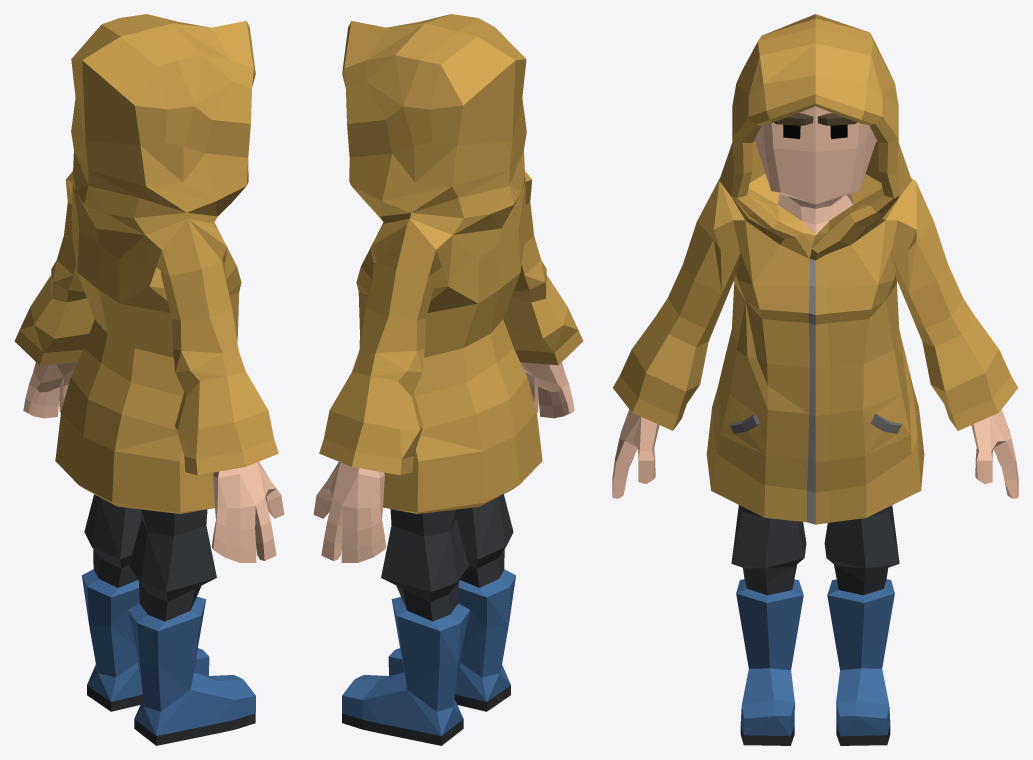
The model's file is child_marker.glb.
The picture shows the model from 3 angles, left to right: view 1: azimuth 30°, elevation 25°; view 2: azimuth 150°, elevation 25°; view 3: azimuth 270°, elevation 25°; orthographic projection.
Parts seen in each view (by area): view 1: child; view 2: child; view 3: child.
Part boxes in pixels (box(x1,y1,x2,y2)): child: box(14, 14, 284, 745); child: box(313, 14, 583, 745); child: box(612, 14, 1018, 745).
Size of the model in its own units: 0.308 by 1.18 by 0.6384.
1 material, 1 textured.
